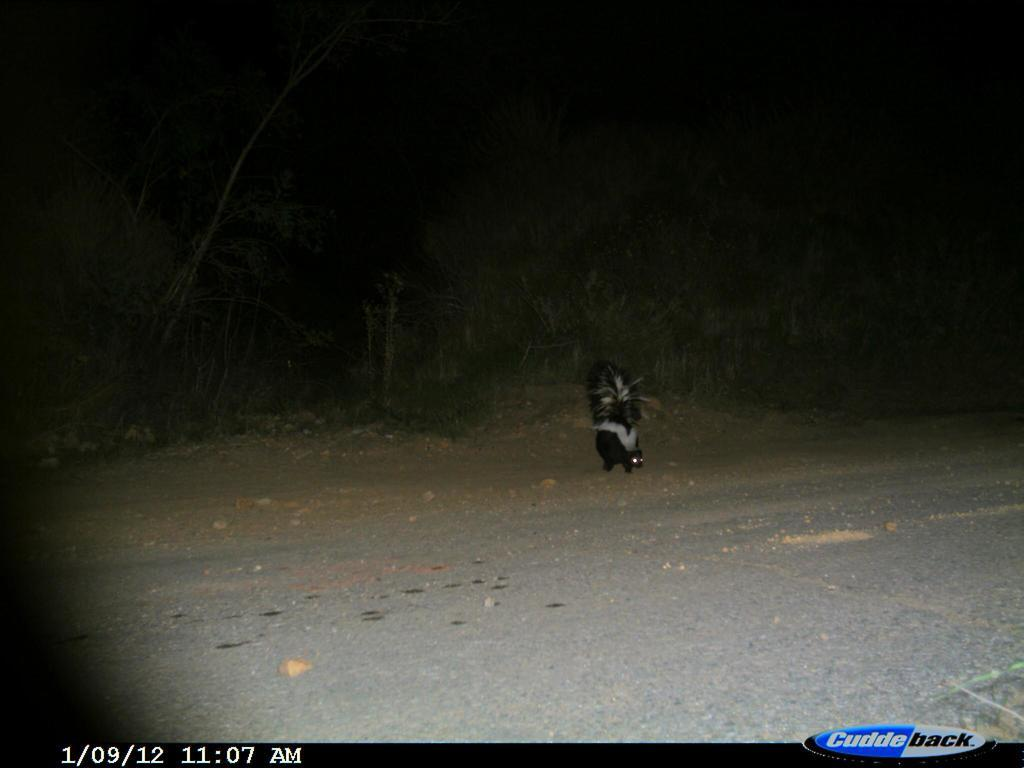skunk: (582, 353, 662, 483)
